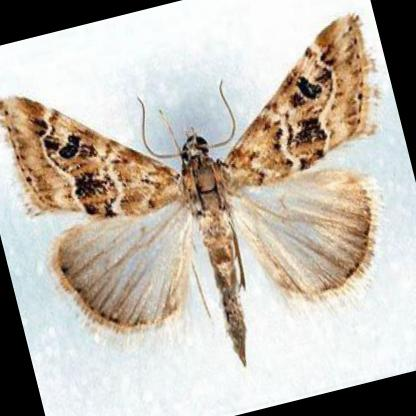Hellula undalis: (0, 11, 389, 377)
